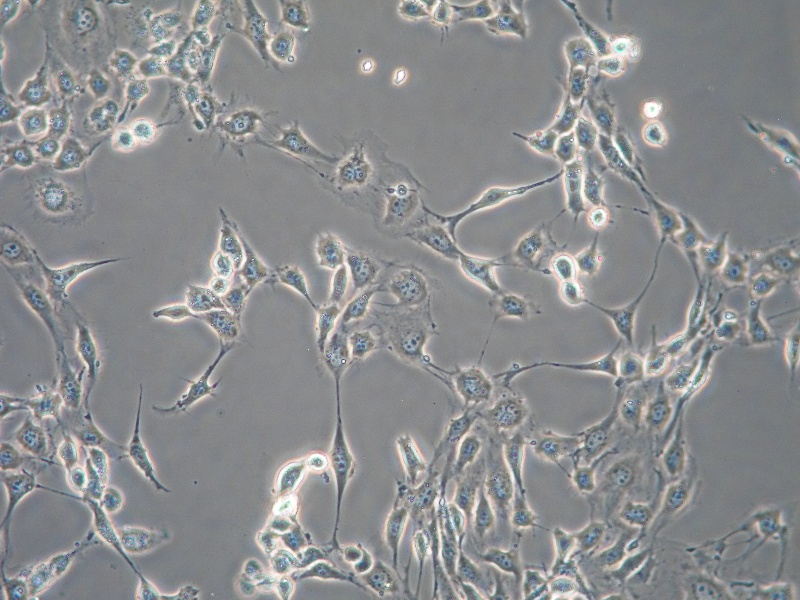cancer: (27, 551, 79, 587), (455, 253, 501, 292), (183, 82, 217, 129), (391, 319, 430, 359), (470, 184, 514, 218), (1, 227, 34, 270), (685, 353, 715, 400), (82, 441, 110, 488), (393, 434, 424, 476), (144, 3, 180, 39), (417, 223, 454, 258), (454, 367, 491, 402), (382, 192, 415, 231), (116, 525, 163, 552), (88, 507, 118, 549), (489, 397, 528, 429), (173, 379, 216, 408), (331, 430, 352, 489), (127, 438, 157, 479), (598, 137, 631, 174), (204, 312, 243, 342), (299, 559, 347, 583), (338, 154, 370, 190), (457, 466, 483, 510), (386, 505, 408, 556), (314, 234, 346, 269), (40, 182, 71, 218), (188, 40, 219, 76), (566, 160, 586, 214), (15, 422, 46, 456), (495, 5, 526, 39), (88, 99, 118, 134), (316, 303, 337, 352), (394, 274, 425, 307), (274, 263, 308, 293), (454, 552, 484, 586), (74, 327, 100, 366), (29, 389, 62, 419), (223, 109, 256, 139), (662, 483, 692, 516), (486, 469, 516, 502), (327, 332, 348, 379), (648, 200, 675, 236), (57, 139, 85, 173), (551, 100, 579, 134), (577, 352, 620, 374), (646, 395, 673, 430), (613, 302, 637, 341), (135, 49, 167, 78), (4, 471, 37, 499), (593, 97, 615, 139), (278, 460, 305, 494), (348, 254, 375, 288), (662, 441, 688, 476), (783, 324, 800, 377), (186, 284, 216, 314), (680, 219, 705, 255), (757, 510, 786, 541), (472, 499, 495, 538), (719, 251, 747, 283), (712, 315, 744, 343), (703, 238, 730, 271), (51, 262, 88, 286), (598, 539, 627, 569), (445, 412, 474, 442), (615, 397, 643, 428), (72, 7, 99, 39), (515, 234, 542, 266), (24, 77, 52, 107), (606, 462, 636, 490), (168, 45, 195, 76), (495, 291, 526, 318), (621, 500, 653, 526), (412, 480, 437, 513), (687, 289, 706, 332), (46, 104, 70, 138), (107, 44, 134, 74), (564, 39, 594, 66), (529, 127, 555, 158), (772, 244, 795, 279), (644, 347, 667, 382), (294, 543, 327, 567), (279, 127, 307, 155), (538, 433, 566, 461), (23, 283, 50, 312), (746, 312, 769, 346), (270, 33, 296, 63), (454, 1, 493, 21), (751, 270, 777, 300), (576, 117, 597, 154), (265, 510, 297, 534), (557, 133, 580, 166), (99, 485, 126, 513), (572, 464, 598, 493), (455, 439, 479, 470), (441, 523, 456, 572), (124, 79, 150, 107), (167, 49, 191, 79), (586, 166, 604, 206), (688, 577, 719, 600), (58, 372, 80, 404), (565, 66, 587, 98), (331, 266, 349, 305), (580, 424, 606, 451), (664, 331, 689, 359), (156, 302, 192, 321), (543, 577, 579, 596), (281, 2, 307, 28), (243, 255, 268, 282), (366, 563, 390, 591), (86, 69, 110, 97), (272, 494, 301, 517), (580, 246, 602, 276), (111, 126, 136, 152), (551, 254, 576, 280), (557, 281, 583, 306), (511, 506, 538, 530), (410, 528, 430, 560), (133, 115, 155, 144), (26, 108, 47, 138), (1, 93, 20, 126), (54, 437, 78, 463), (208, 251, 234, 275), (488, 545, 512, 571), (432, 1, 453, 30), (5, 575, 30, 599), (352, 330, 372, 360), (398, 1, 428, 21), (611, 32, 635, 57), (132, 578, 159, 600), (66, 466, 88, 493), (243, 556, 264, 584), (244, 13, 264, 42), (642, 121, 665, 145), (193, 1, 215, 26), (1, 441, 19, 471), (254, 531, 275, 554), (12, 144, 33, 167), (236, 572, 255, 597), (1, 1, 19, 27), (342, 542, 363, 564), (58, 70, 78, 93), (275, 576, 293, 599), (194, 24, 211, 47), (209, 276, 229, 295), (1, 141, 12, 175), (177, 584, 199, 600), (307, 452, 326, 470)
